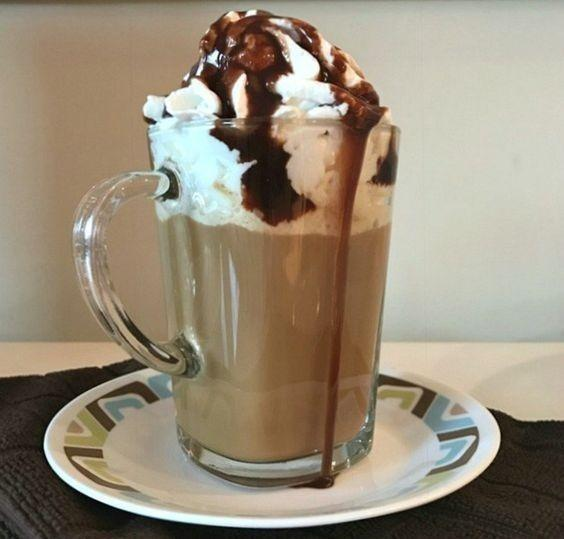glass-mug: (67, 74, 402, 488)
